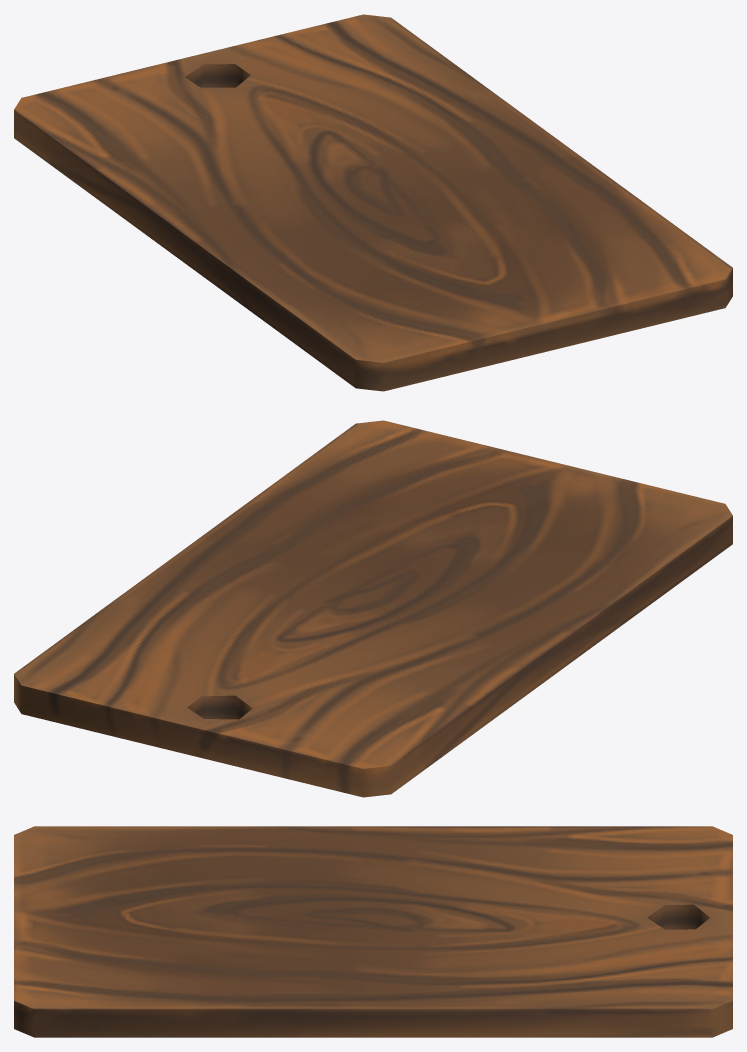
The model's file is cutting_board1.fbx.
3 renders of one model, top to bottom at view 1: azimuth 30°, elevation 25°; view 2: azimuth 150°, elevation 25°; view 3: azimuth 270°, elevation 25°, orthographic.
Visible parts, largest first — view 1: cutting_board1; view 2: cutting_board1; view 3: cutting_board1.
Part boxes in pixels (x1=…): cutting_board1: x1=14, y1=14, x2=732, y2=391; cutting_board1: x1=14, y1=420, x2=732, y2=797; cutting_board1: x1=14, y1=826, x2=732, y2=1037.
Bounding box in the file's own units: 46.21 × 3.34 × 76.83.
